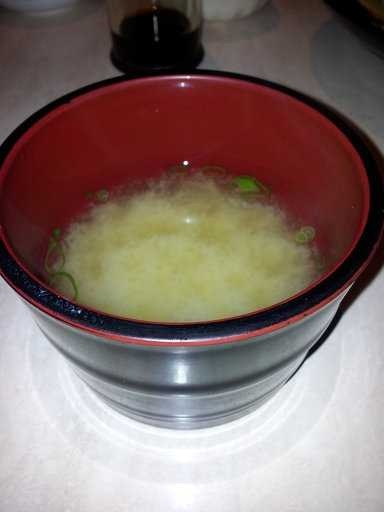soup: (35, 98, 333, 331)
